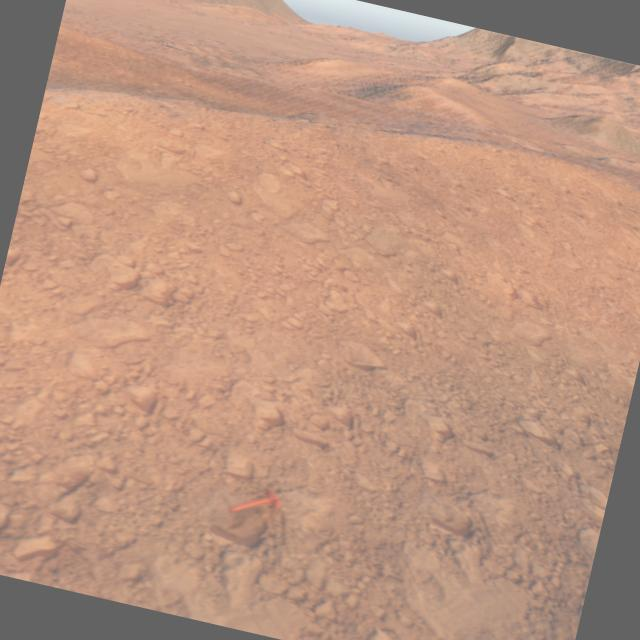newhammer: (228, 480, 282, 523)
